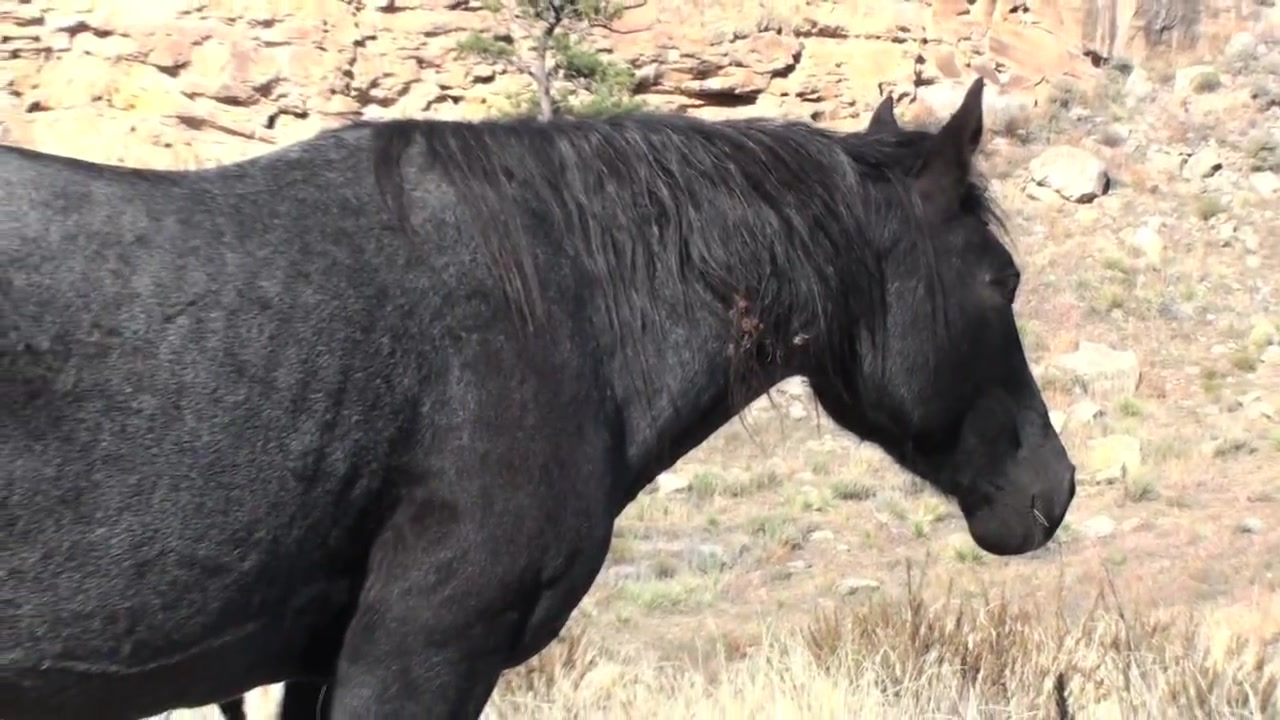horse: (1, 76, 1084, 720)
